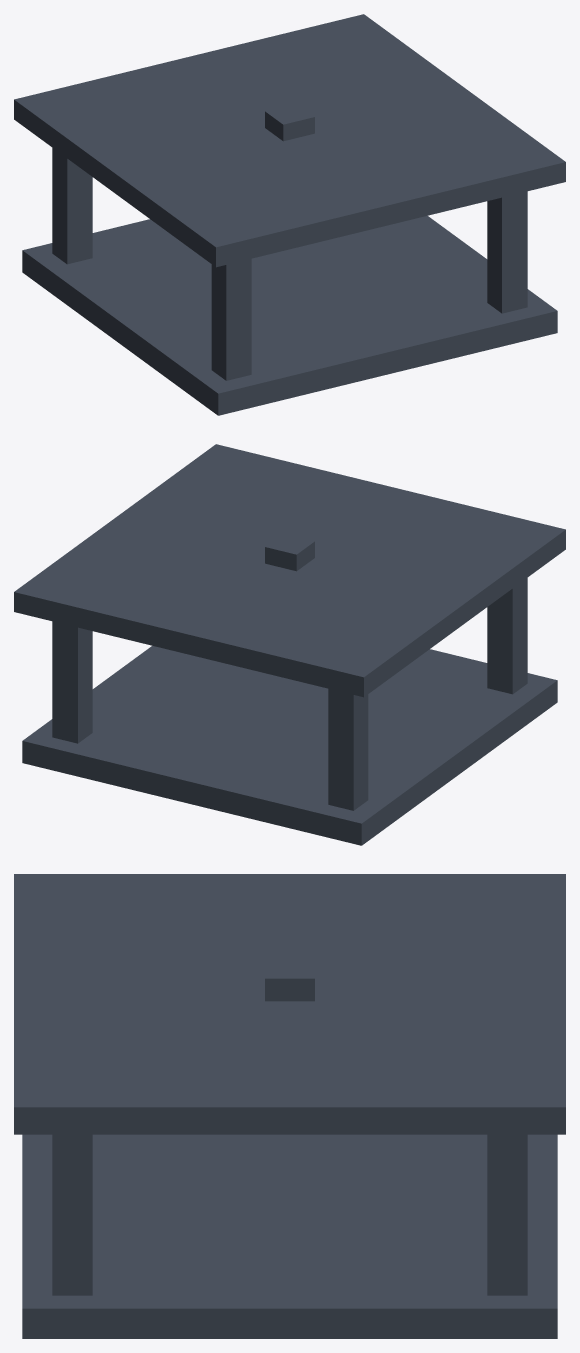
The model's file is depot-landmark.glb.
The picture shows the model from 3 angles, top to bottom: view 1: azimuth 30°, elevation 25°; view 2: azimuth 150°, elevation 25°; view 3: azimuth 270°, elevation 25°; orthographic projection. The views are drawn at different scales.
Visible parts, largest first — view 1: DepotLandmark; view 2: DepotLandmark; view 3: DepotLandmark.
Part boxes in pixels (box(x1,y1,x2,y2)): DepotLandmark: box(14, 14, 565, 415); DepotLandmark: box(14, 444, 565, 845); DepotLandmark: box(14, 874, 565, 1338).
Bounding box in the file's own units: 3.3 × 1.7 × 3.3.
